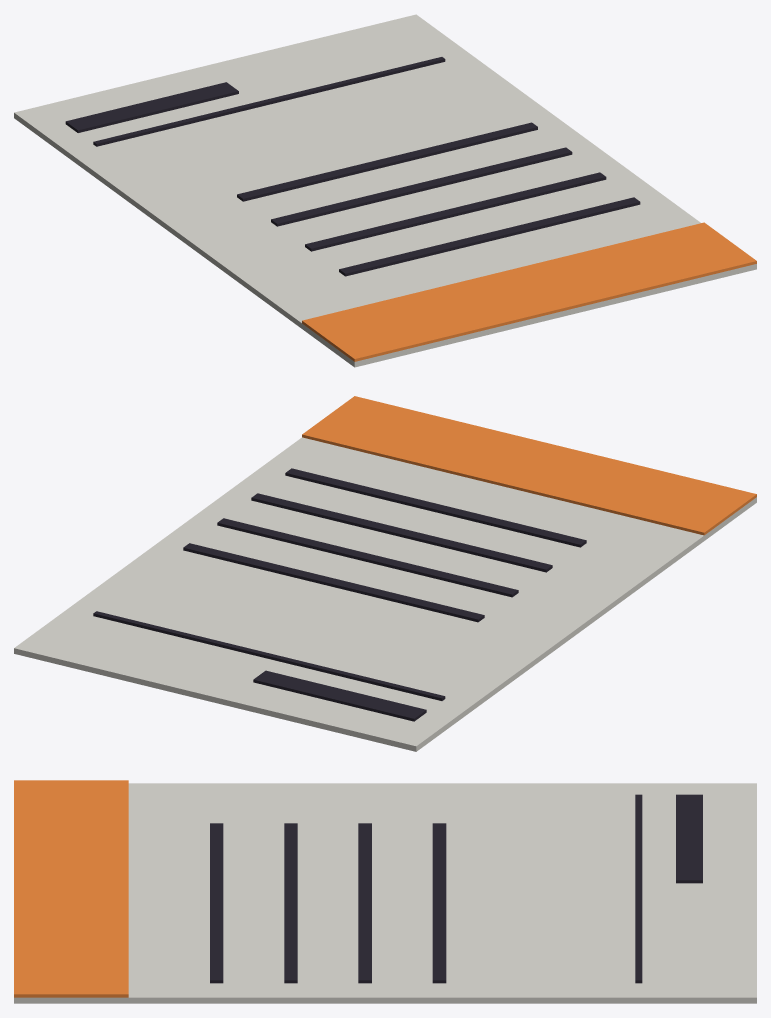
The model's file is SM_PRP_NotaFiscal.fbx.
3 renders of one model, top to bottom at view 1: azimuth 30°, elevation 25°; view 2: azimuth 150°, elevation 25°; view 3: azimuth 270°, elevation 25°, orthographic. The views are drawn at different scales.
Visible parts, largest first — view 1: SM_PRP_NotaFiscal; view 2: SM_PRP_NotaFiscal; view 3: SM_PRP_NotaFiscal.
Boxes of the visible parts, x1=… form: SM_PRP_NotaFiscal: x1=14, y1=14, x2=756, y2=367; SM_PRP_NotaFiscal: x1=14, y1=396, x2=756, y2=751; SM_PRP_NotaFiscal: x1=14, y1=780, x2=756, y2=1003.
Bounding box in the file's own units: 0.15 × 0.003 × 0.22.
